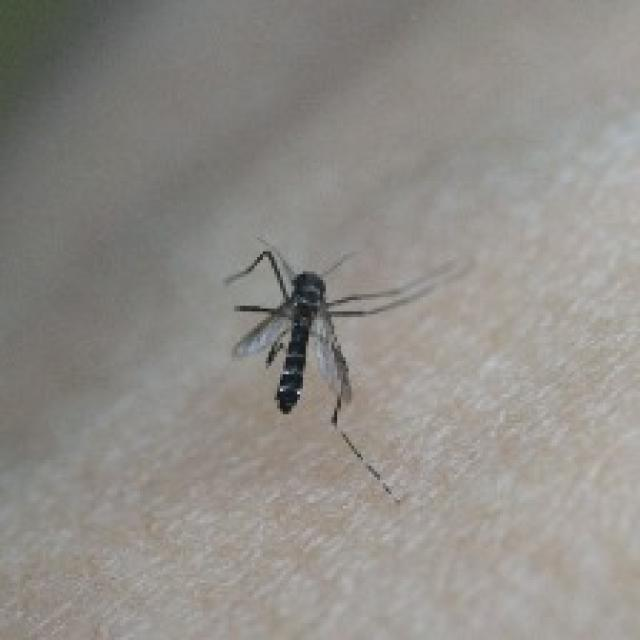aedes: (220, 234, 471, 503)
